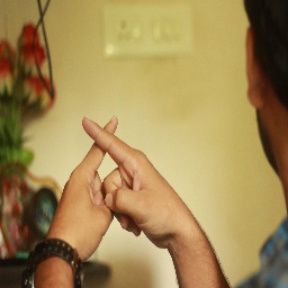X: (49, 105, 169, 216)
